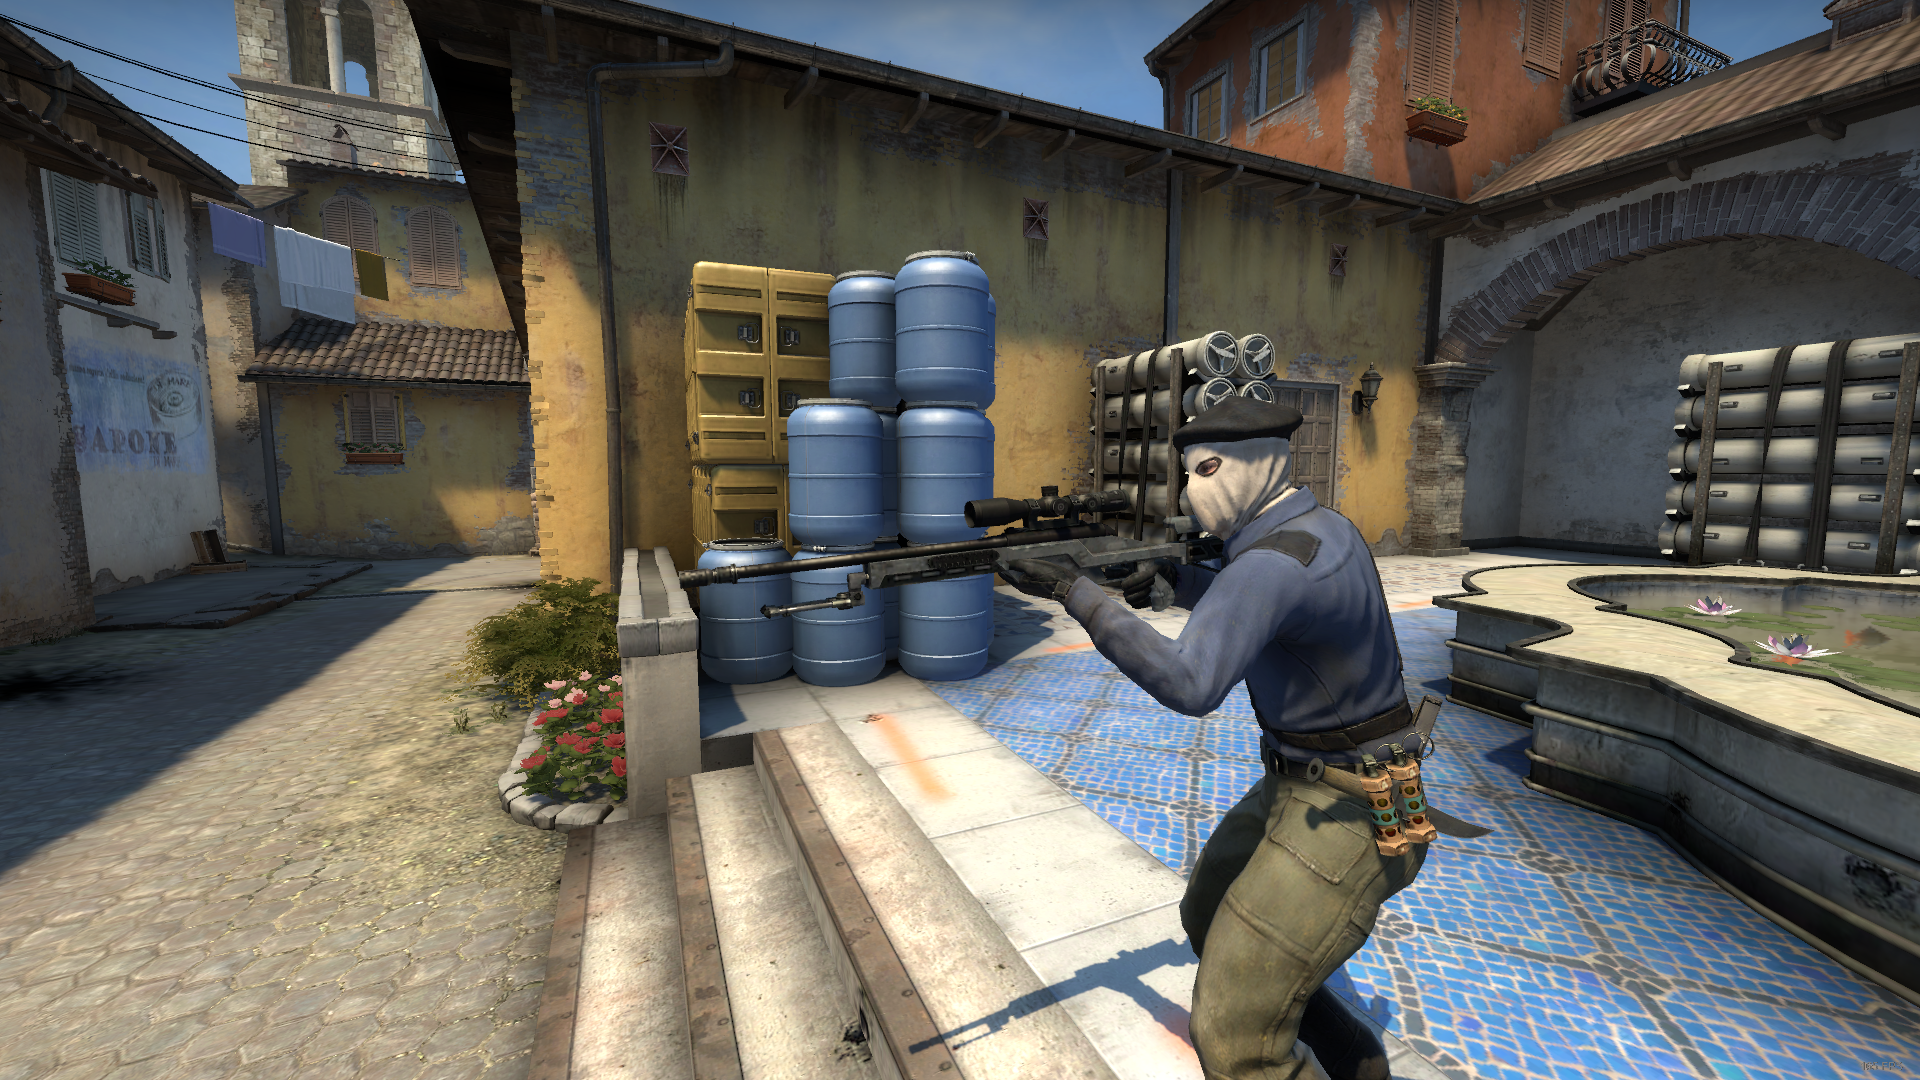t: (982, 397, 1458, 1080)
